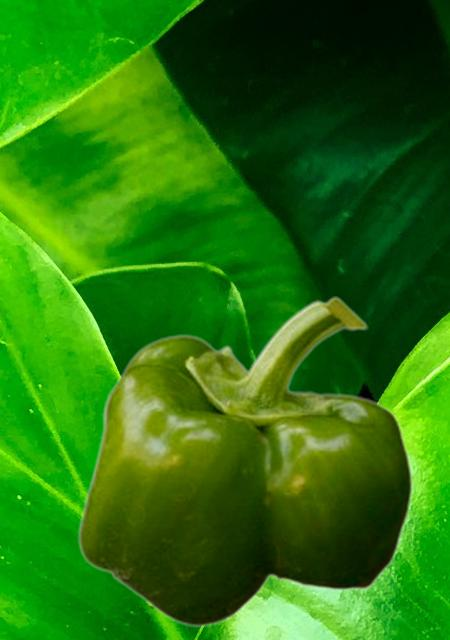bell_pepper: (77, 296, 412, 627)
